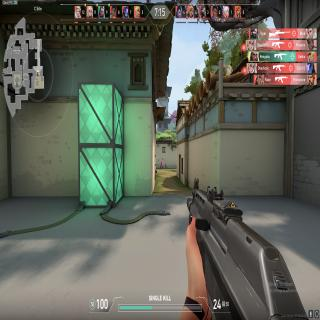ENEMY-BODY: (160, 159, 163, 169)
ENEMY-HEAD: (161, 160, 162, 162)
